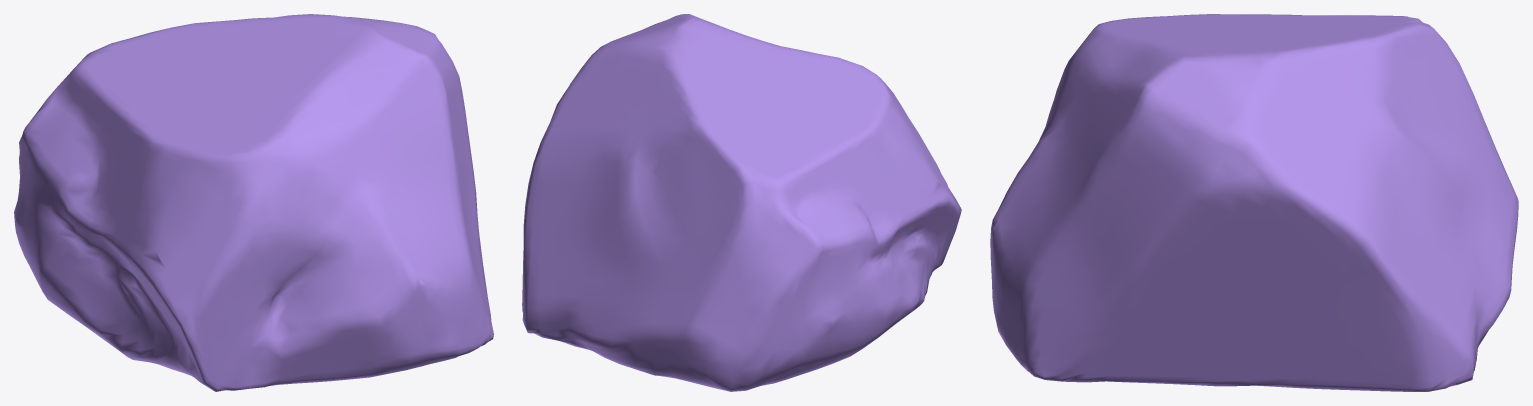
Rendered from rock09.fbx.
The picture shows the model from 3 angles, left to right: view 1: azimuth 30°, elevation 25°; view 2: azimuth 150°, elevation 25°; view 3: azimuth 270°, elevation 25°; orthographic projection. The views are drawn at different scales.
Visible parts, largest first — view 1: PM3D_Cube3D_1; view 2: PM3D_Cube3D_1; view 3: PM3D_Cube3D_1.
Part boxes in pixels (box(x1,y1,x2,y2)): PM3D_Cube3D_1: box(14, 14, 493, 391); PM3D_Cube3D_1: box(522, 14, 961, 391); PM3D_Cube3D_1: box(990, 14, 1518, 391).
Size of the model in its own units: 2.2 by 1.49 by 2.44.
